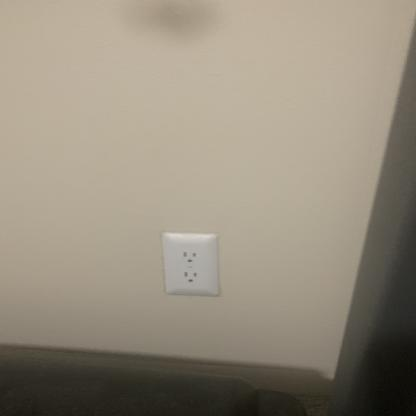OUTLET: (160, 233, 221, 296)
